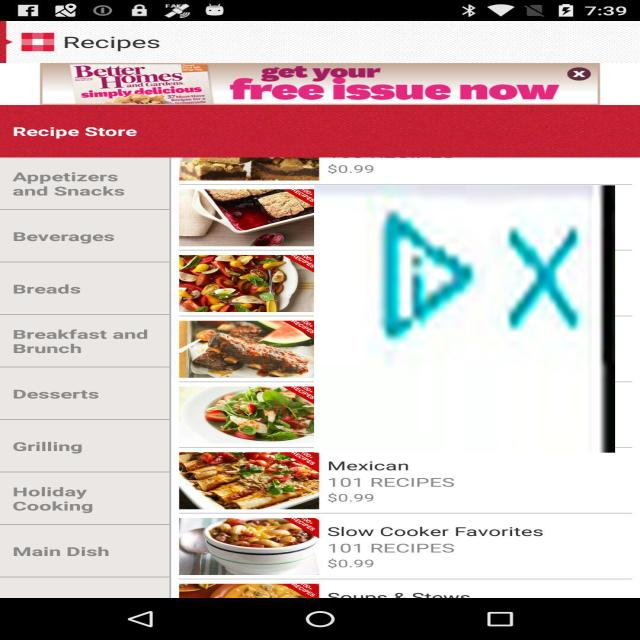sneaking: (314, 185, 615, 453)
